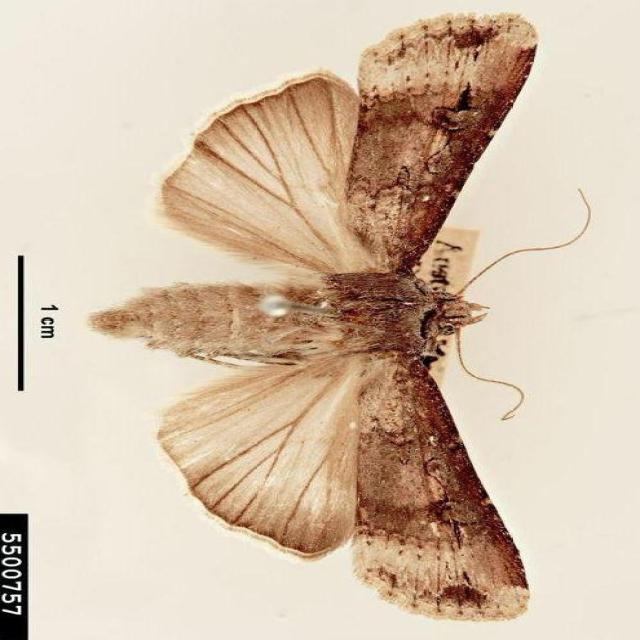black cutworm: (80, 10, 599, 630)
